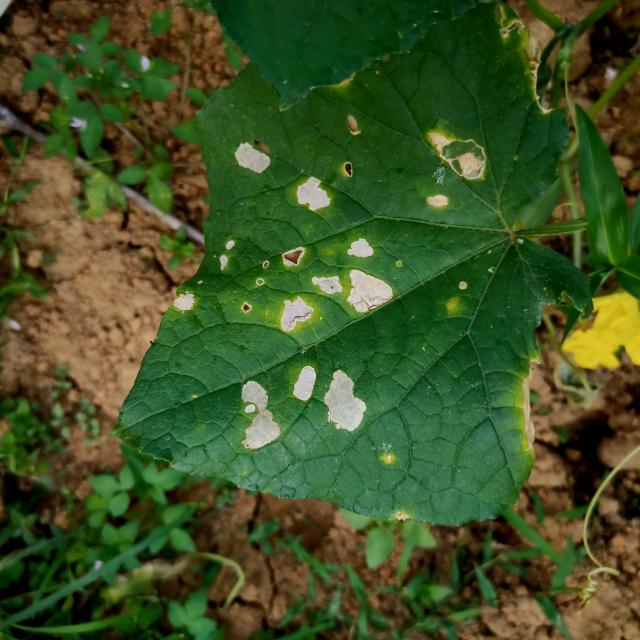disease_cucumber: (280, 236, 394, 335), (416, 130, 488, 210), (291, 364, 368, 432), (239, 379, 281, 452), (235, 140, 272, 177), (294, 177, 332, 213), (215, 238, 239, 275), (172, 288, 198, 315)
